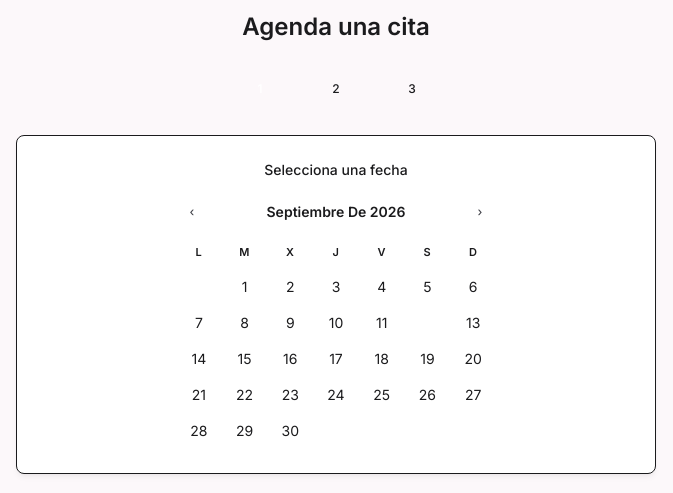
Test: CalendarioPage › shows slots when a date is selected and slots are available
The width and height of the screenshot is (673, 493).
# Select a day from the calendar
Click the button "15": click(245, 358) x1=224 y1=342 x2=265 y2=374
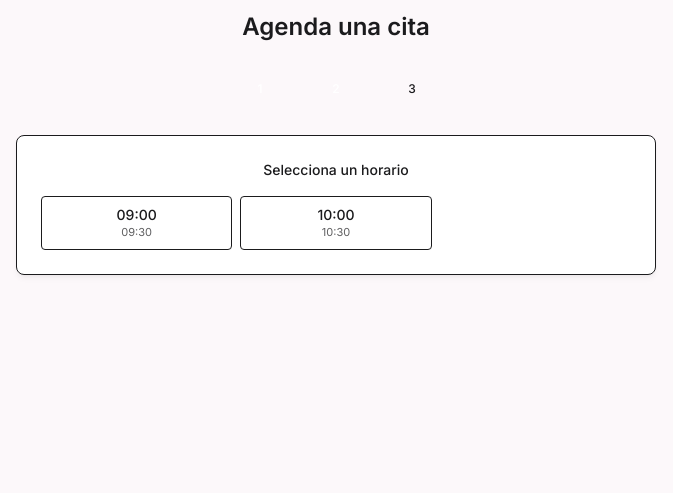
Expected: the text "09:00" is shown, x1=117 y1=205 x2=157 y2=225
